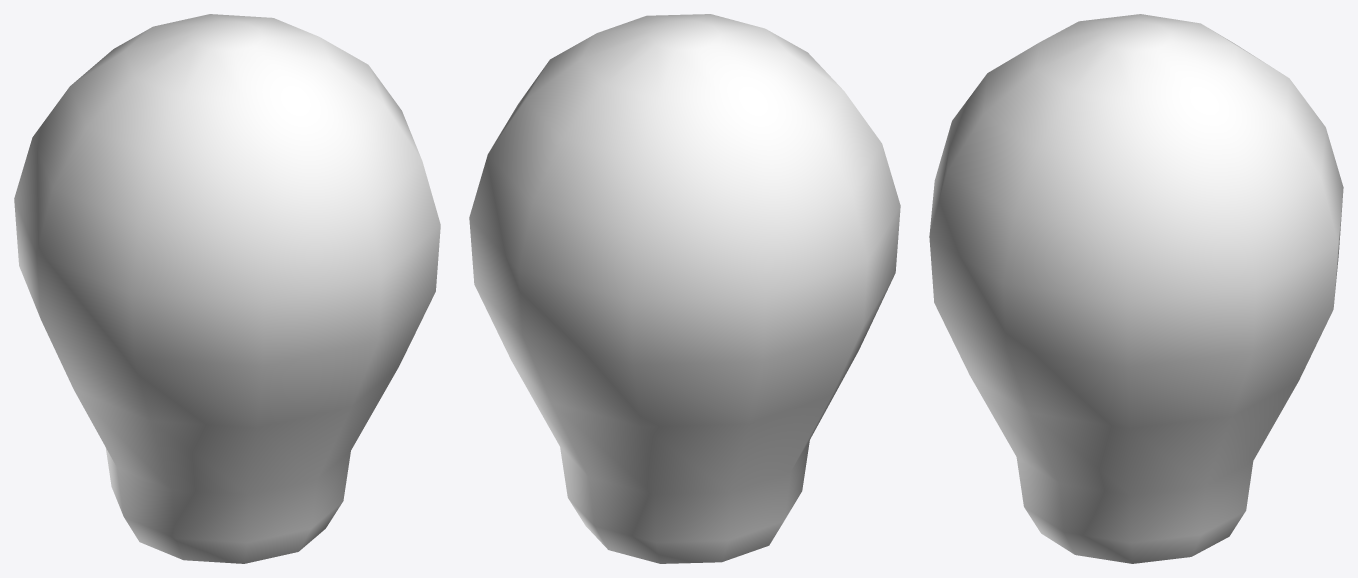
File: bulbOn.fbx
3 views of the same model, side by side, from view 1: azimuth 30°, elevation 25°; view 2: azimuth 150°, elevation 25°; view 3: azimuth 270°, elevation 25° (orthographic).
Parts seen in each view (by area): view 1: bulb2; view 2: bulb2; view 3: bulb2.
Part boxes in pixels (<box>): bulb2: <box>14,14,440,563</box>; bulb2: <box>469,14,900,563</box>; bulb2: <box>929,14,1343,563</box>.
Size of the model in its own units: 1.17 by 1.45 by 1.12.
